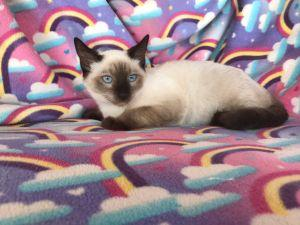siamese: (72, 30, 154, 115)
